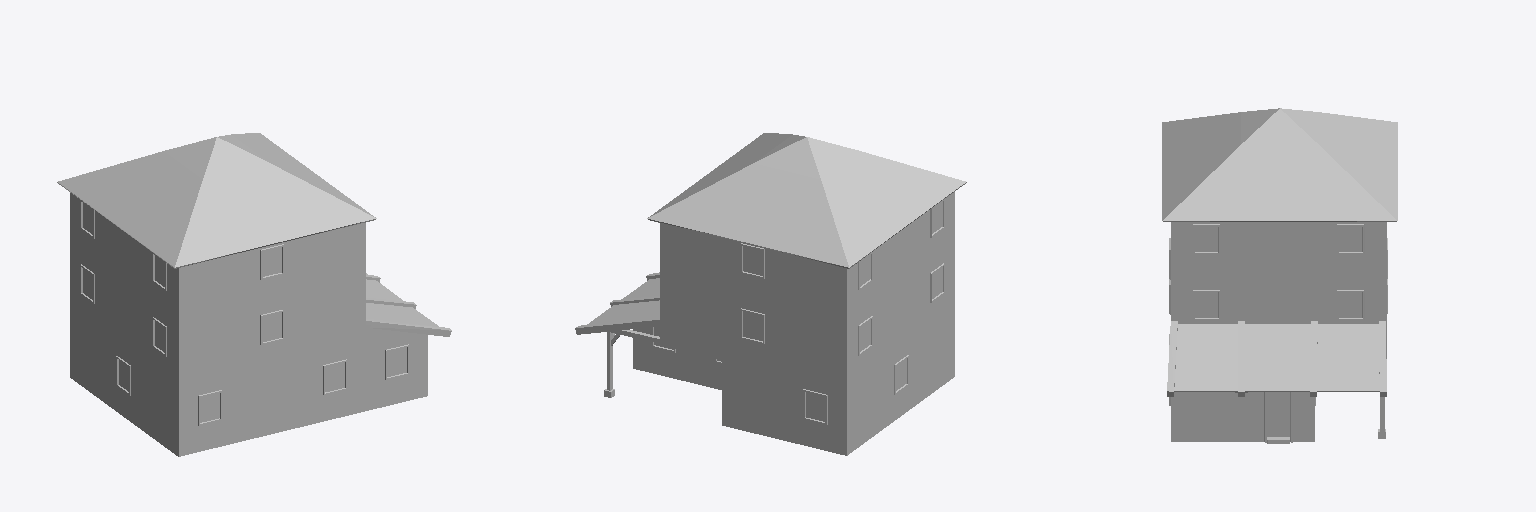
File: medieval_building_3.obj
3 renders of one model, left to right at view 1: azimuth 30°, elevation 25°; view 2: azimuth 150°, elevation 25°; view 3: azimuth 270°, elevation 25°, orthographic.
Visible parts, largest first — view 1: objbuilding_; view 2: objbuilding_; view 3: objbuilding_.
Part boxes in pixels (x1,y1,x2,y2): objbuilding_: (57, 133, 451, 456); objbuilding_: (575, 133, 966, 455); objbuilding_: (1162, 108, 1397, 443).
Bounding box in the file's own units: 44.86 × 39.39 × 32.6.